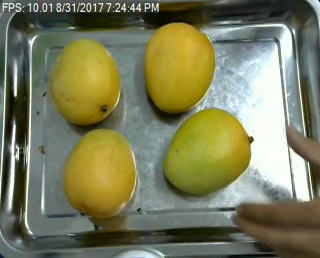Mango: (163, 106, 254, 193), (60, 130, 135, 219), (142, 22, 215, 112), (50, 36, 123, 125)
